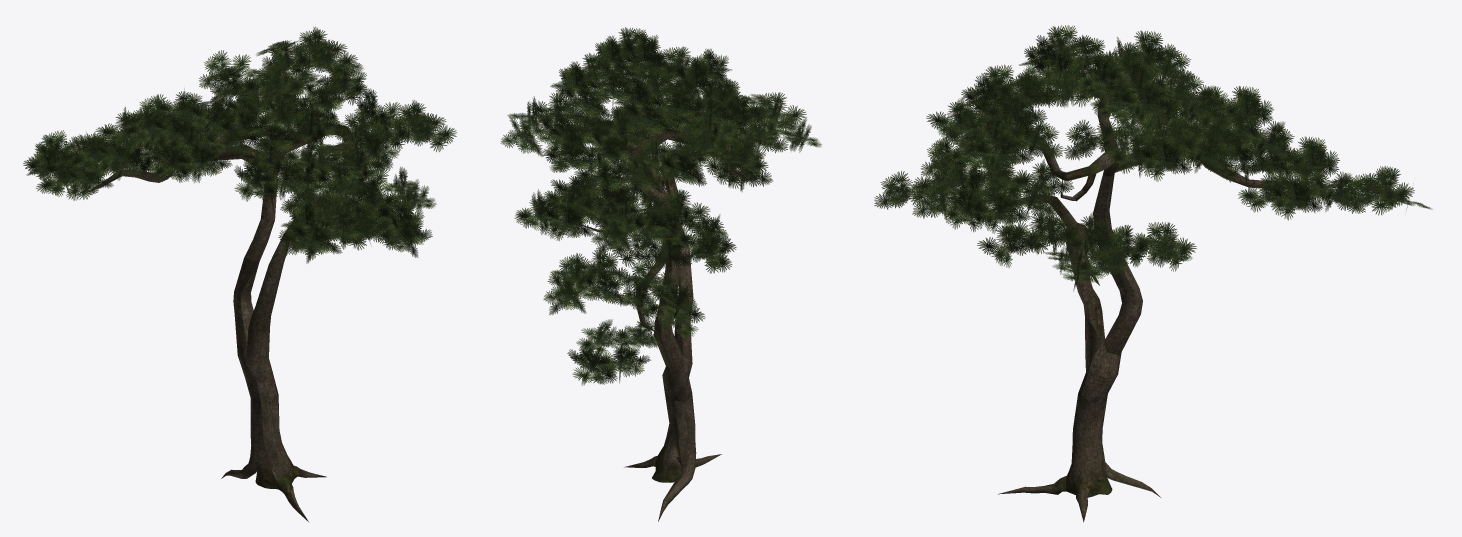
Rendered from pine-transformed.glb.
3 views of the same model, side by side, from view 1: azimuth 30°, elevation 25°; view 2: azimuth 150°, elevation 25°; view 3: azimuth 270°, elevation 25° (orthographic). The views are drawn at different scales.
Parts seen in each view (by area): view 1: Object_2, Object_3; view 2: Object_2, Object_3; view 3: Object_2, Object_3.
Boxes of the visible parts, bbox=[...] form: Object_2: bbox=[23, 26, 456, 263]; Object_3: bbox=[89, 124, 368, 521]; Object_2: bbox=[500, 27, 821, 385]; Object_3: bbox=[581, 106, 753, 521]; Object_2: bbox=[874, 25, 1432, 291]; Object_3: bbox=[992, 93, 1286, 522].
Bounding box in the file's own units: 2865 × 4348 × 4848.
2 materials, 2 textured.
